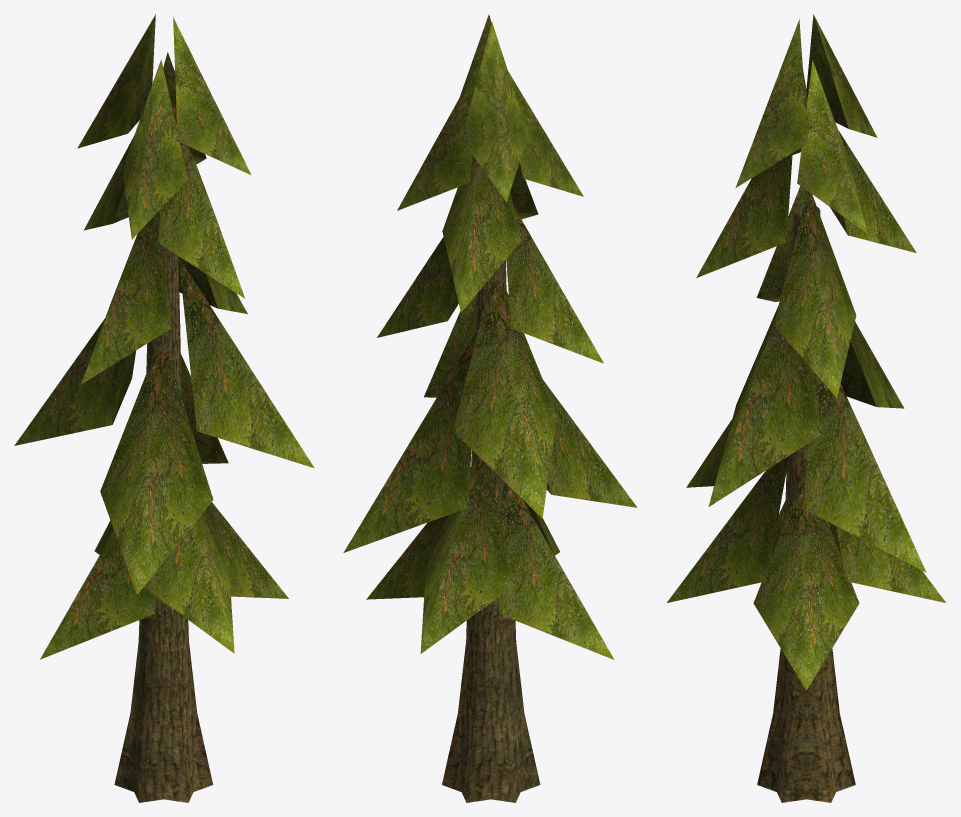
File: Tree03.FBX
3 renders of one model, left to right at view 1: azimuth 30°, elevation 25°; view 2: azimuth 150°, elevation 25°; view 3: azimuth 270°, elevation 25°, orthographic.
Parts seen in each view (by area): view 1: Tree03; view 2: Tree03; view 3: Tree03.
Part boxes in pixels (x1,y1,x2,y2): Tree03: (14,14,314,802); Tree03: (343,14,637,802); Tree03: (667,14,945,802).
Bounding box in the file's own units: 300 × 884 × 292.
